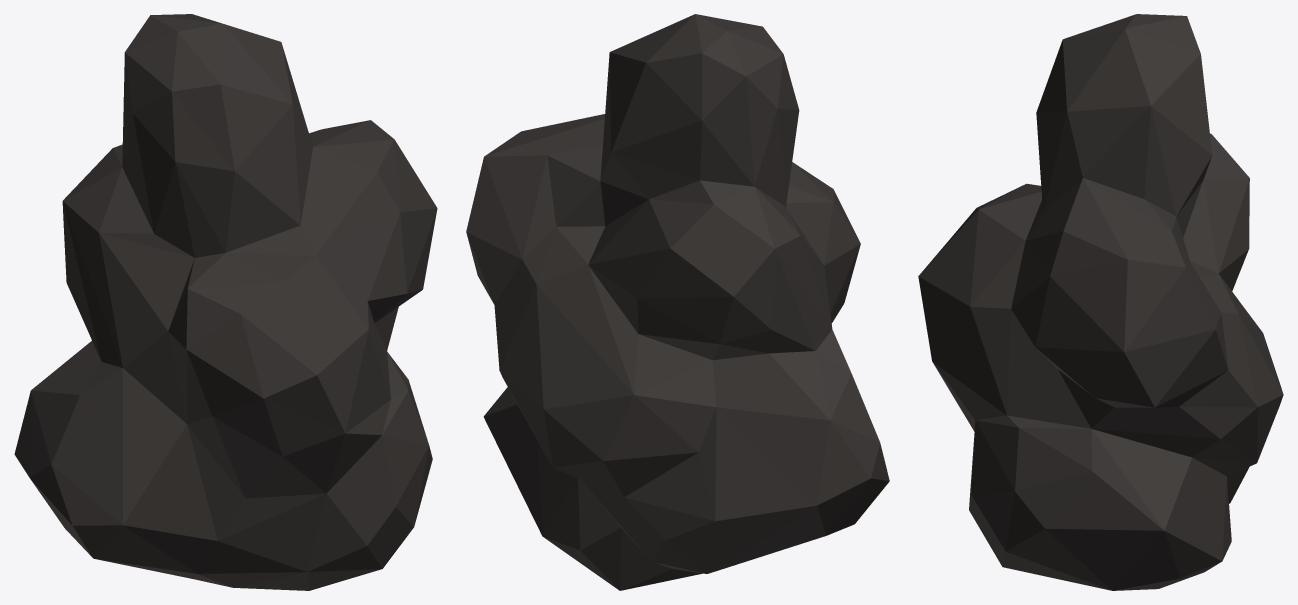
The model's file is Rock_1.fbx.
3 renders of one model, left to right at view 1: azimuth 30°, elevation 25°; view 2: azimuth 150°, elevation 25°; view 3: azimuth 270°, elevation 25°, orthographic. The views are drawn at different scales.
Visible parts, largest first — view 1: Group5095; view 2: Group5095; view 3: Group5095.
Boxes of the visible parts, <box> form: Group5095: <box>14,14,437,590</box>; Group5095: <box>466,14,889,590</box>; Group5095: <box>918,14,1283,590</box>.
Size of the model in its own units: 6.35 by 8.54 by 5.31.
